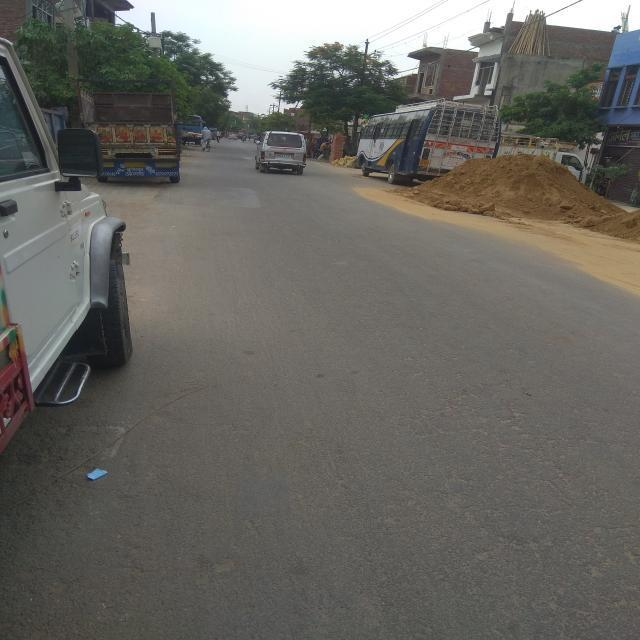bus_back: (350, 96, 507, 197)
car_back: (254, 126, 312, 174)
